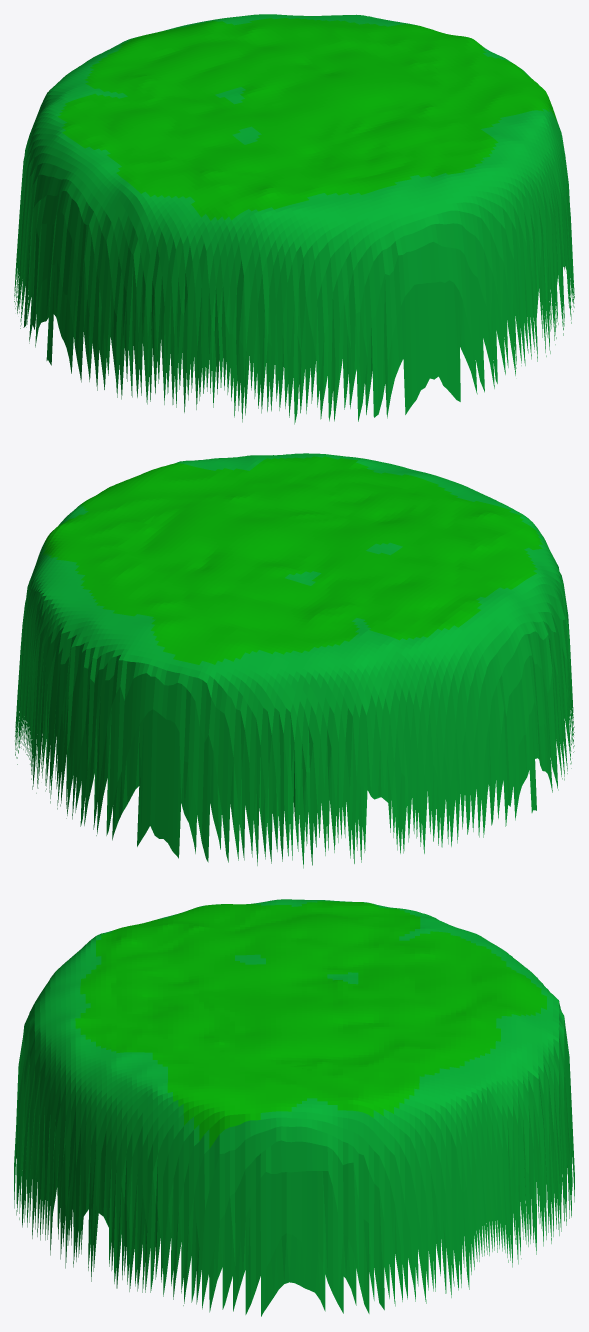
File: zoneForest.fbx
The picture shows the model from 3 angles, top to bottom: view 1: azimuth 30°, elevation 25°; view 2: azimuth 150°, elevation 25°; view 3: azimuth 270°, elevation 25°; orthographic projection.
Parts seen in each view (by area): view 1: Plane; view 2: Plane; view 3: Plane.
Boxes of the visible parts, <box> form: Plane: <box>14,14,574,424</box>; Plane: <box>15,453,574,868</box>; Plane: <box>14,899,574,1316</box>.
Bounding box in the file's own units: 15967 × 6520 × 15886.
